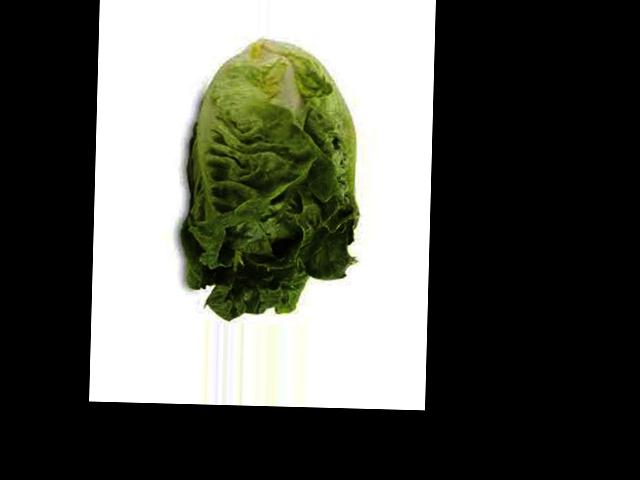lettuce: (178, 182, 287, 285)
